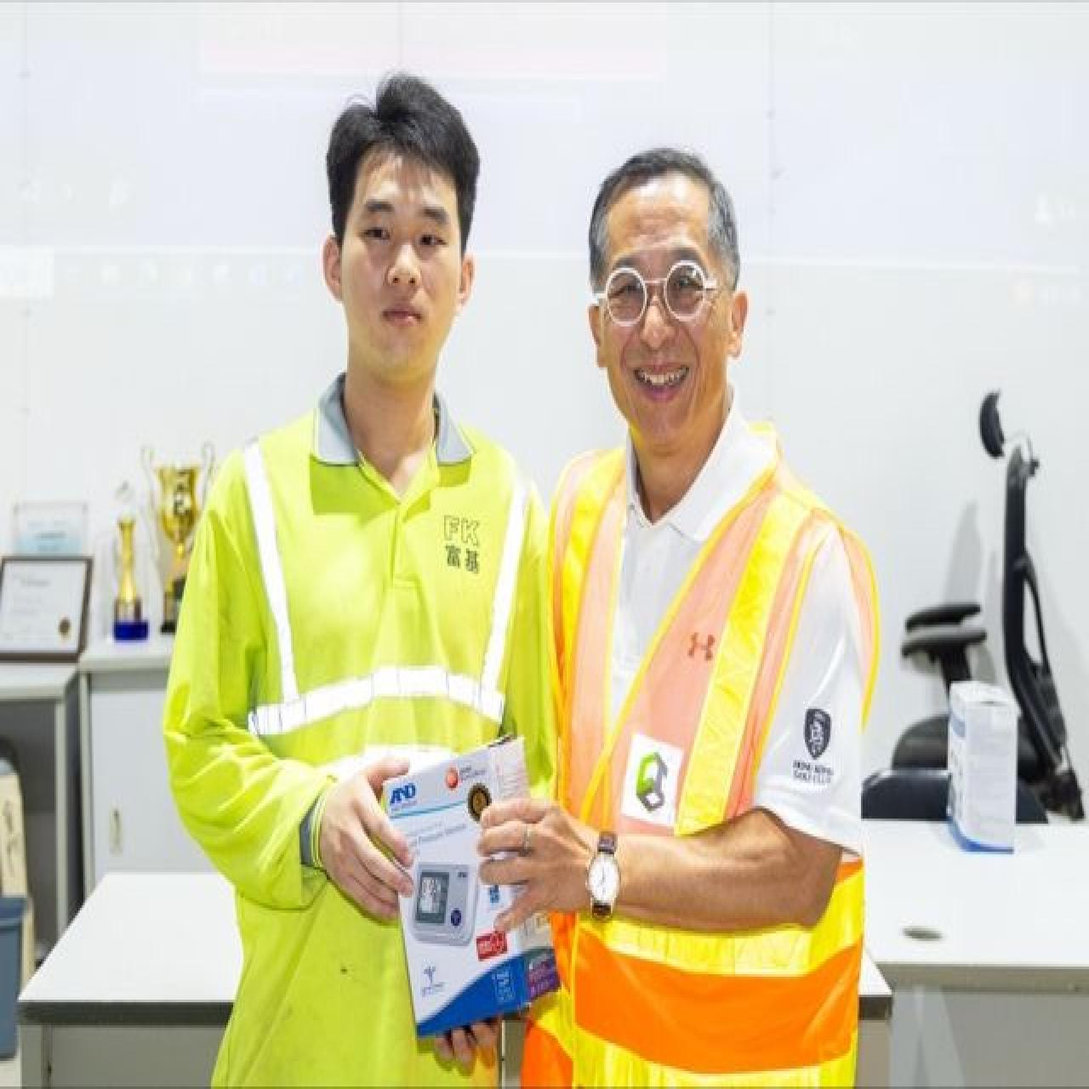NO_Safety_Vest: (203, 406, 539, 1085), (541, 430, 879, 1089)
Person: (144, 41, 575, 1089), (479, 124, 890, 1087)
